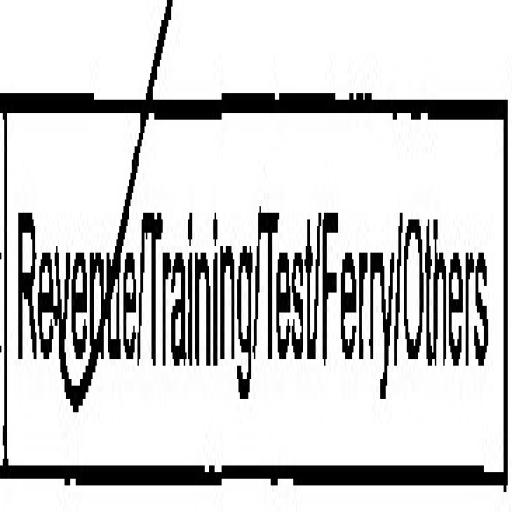check: (0, 23, 142, 512)
